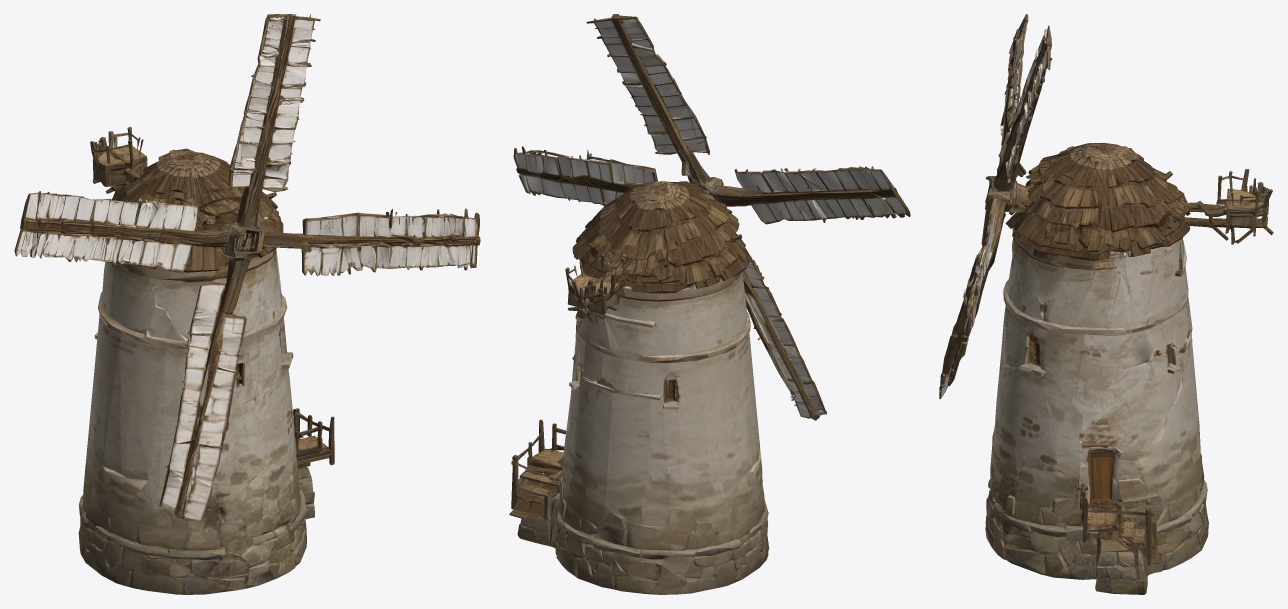
File: windmill.glb
3 renders of one model, left to right at view 1: azimuth 30°, elevation 25°; view 2: azimuth 150°, elevation 25°; view 3: azimuth 270°, elevation 25°, orthographic. The views are drawn at different scales.
Visible parts, largest first — view 1: windmill; view 2: windmill; view 3: windmill.
Boxes of the visible parts, left/top/right/bottom form: windmill: left=14, top=14, right=480, bottom=594; windmill: left=509, top=14, right=910, bottom=594; windmill: left=939, top=14, right=1273, bottom=594.
Size of the model in its own units: 12.94 by 15 by 8.55.
1 material, 1 textured.
